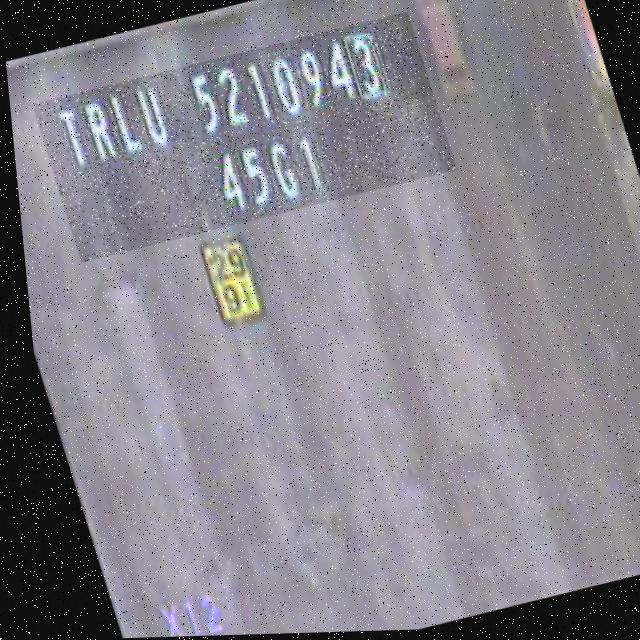container_number_h: (24, 13, 459, 263)
